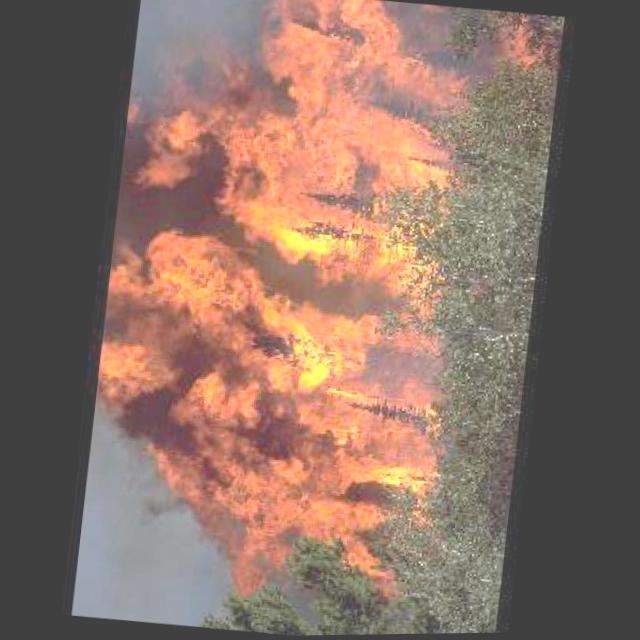Fire: (78, 0, 486, 611)
